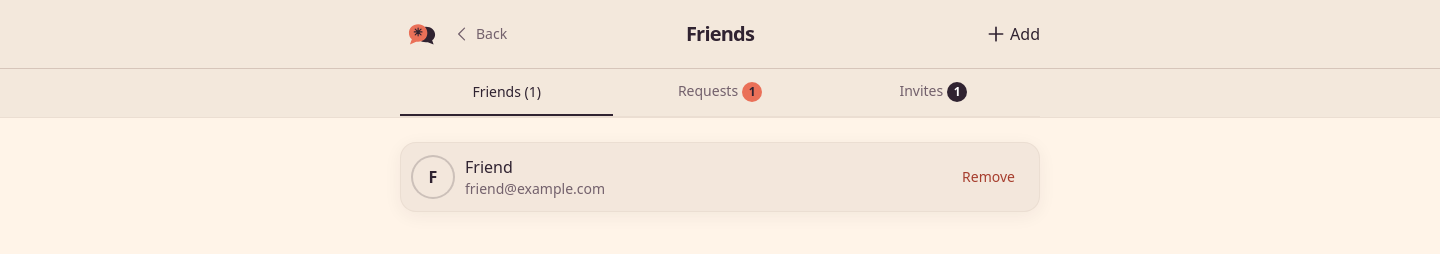
page branch coverage › covers authenticated friends tabs with requests and invites
Click the button "Requests 1" at [720, 92], box [613,69,827,116]
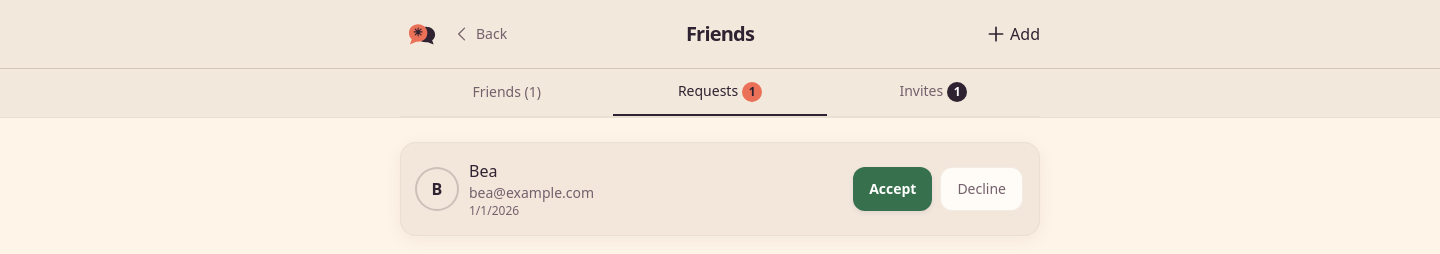
Check: the text "Bea" is shown, box [469,160,497,182]
Click the button "Friends (1)" at [507, 92], box [400,69,613,116]
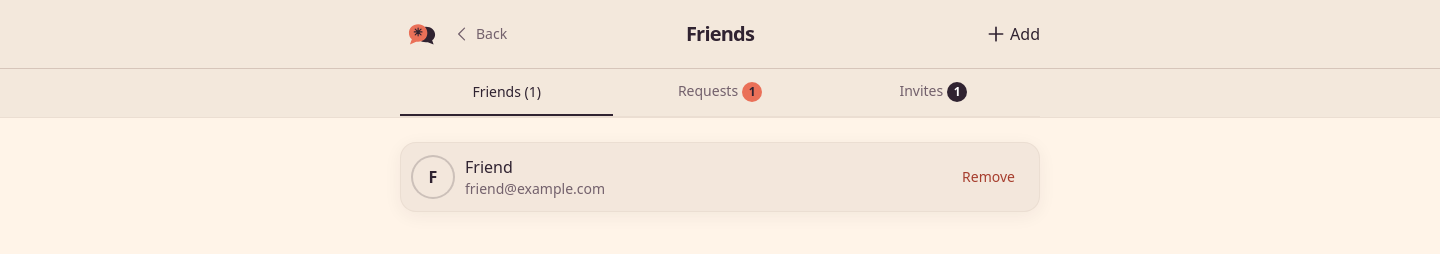
Check: the text "Friend" is shown, box [465,156,513,178]
Click the button "Invites 1" at [933, 92], box [827,69,1040,116]
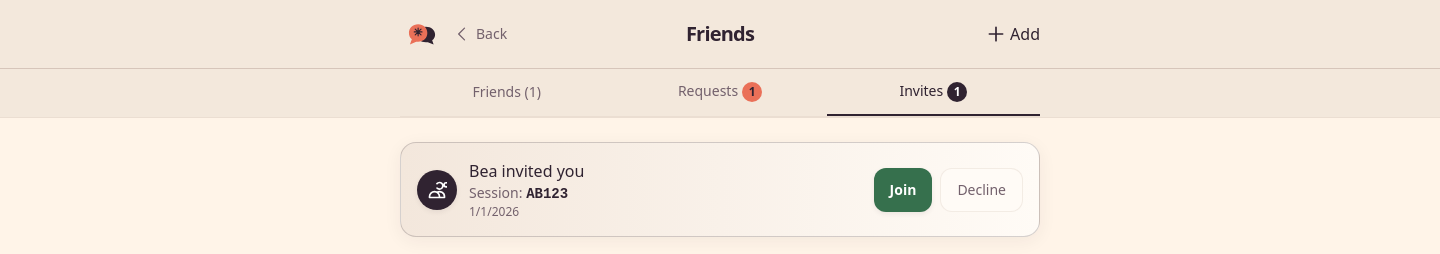
Check: the text "Session:" is shown, box [469,183,522,202]
